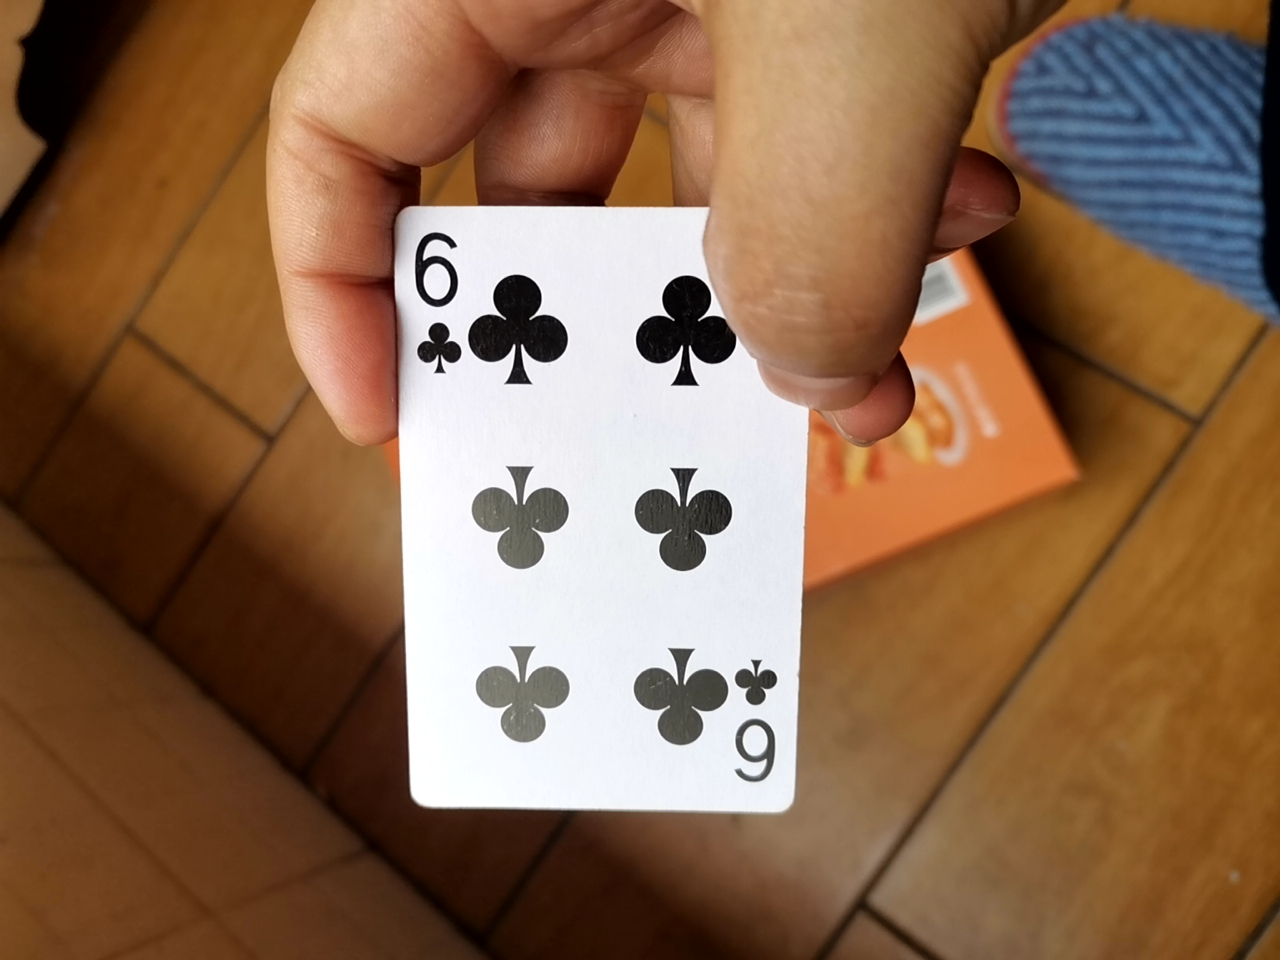mh 6: (391, 199, 828, 833)
